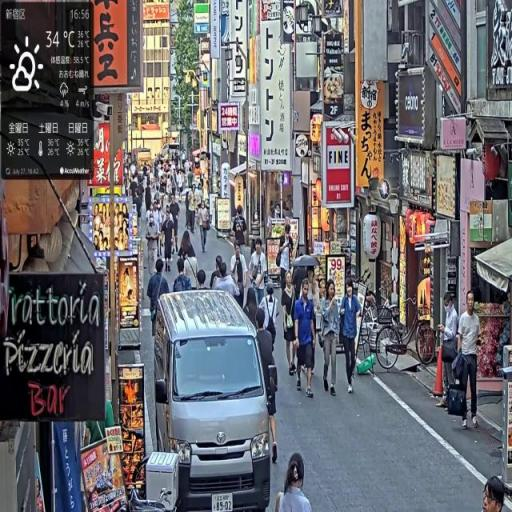person: (454, 291, 483, 432), (295, 279, 318, 401), (319, 276, 341, 398), (340, 280, 363, 395), (275, 452, 315, 512), (283, 269, 300, 380), (149, 258, 172, 332), (249, 239, 269, 300), (230, 240, 247, 308), (482, 477, 508, 512), (162, 208, 176, 273), (172, 258, 194, 293), (197, 201, 211, 256)
